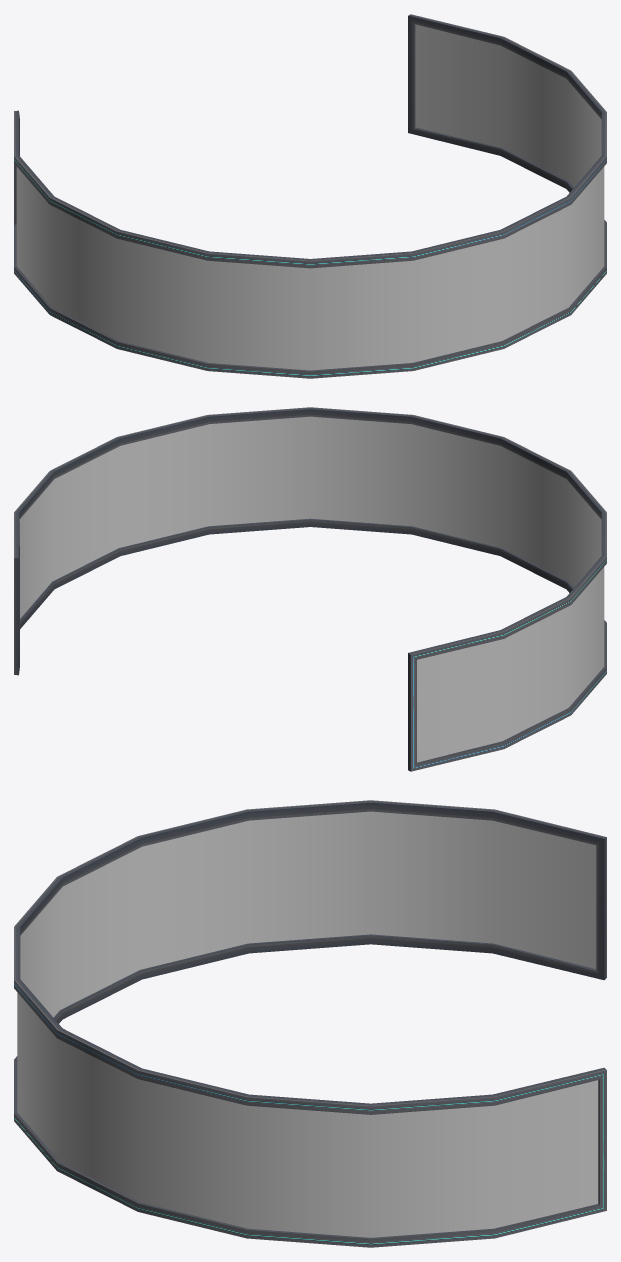
Rendered from mesh_1002_guanggao4.FBX.
3 views of the same model, one above another, from view 1: azimuth 30°, elevation 25°; view 2: azimuth 150°, elevation 25°; view 3: azimuth 270°, elevation 25° (orthographic). The views are drawn at different scales.
Parts seen in each view (by area): view 1: mesh_1002_guangao4a, mesh_1002_guangao4b; view 2: mesh_1002_guangao4a, mesh_1002_guangao4b; view 3: mesh_1002_guangao4a, mesh_1002_guangao4b.
Part boxes in pixels (<box>): mesh_1002_guangao4a: <box>16,24,604,370</box>; mesh_1002_guangao4b: <box>14,14,606,378</box>; mesh_1002_guangao4a: <box>19,416,604,762</box>; mesh_1002_guangao4b: <box>14,407,606,771</box>; mesh_1002_guangao4a: <box>17,811,598,1237</box>; mesh_1002_guangao4b: <box>14,800,606,1247</box>.
Bounding box in the file's own units: 1224 × 264 × 1001.
1 material, 1 textured.
